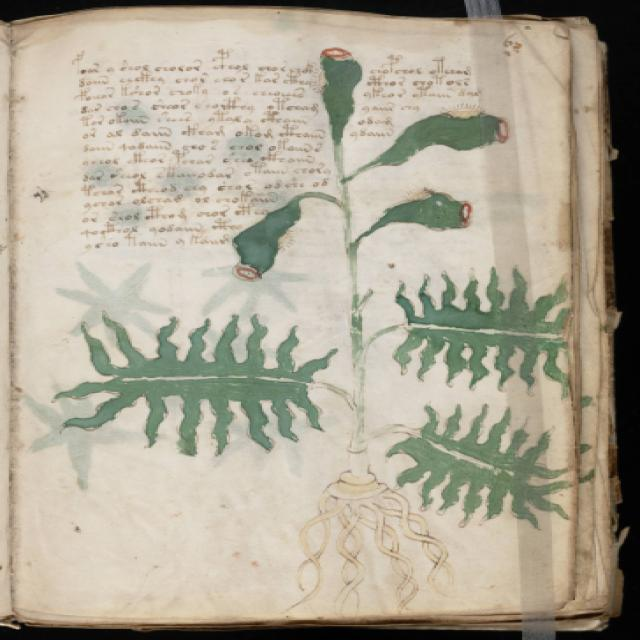plant: (50, 40, 576, 617)
